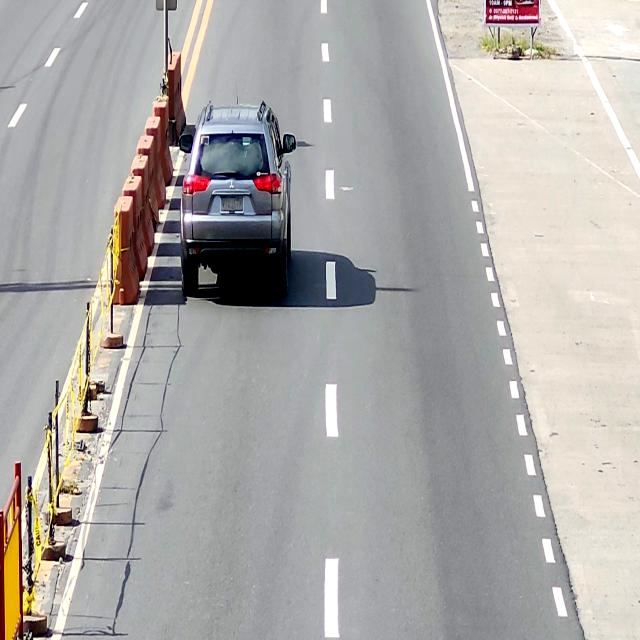Car: (179, 99, 296, 297)
License-Plate: (219, 193, 244, 214)
